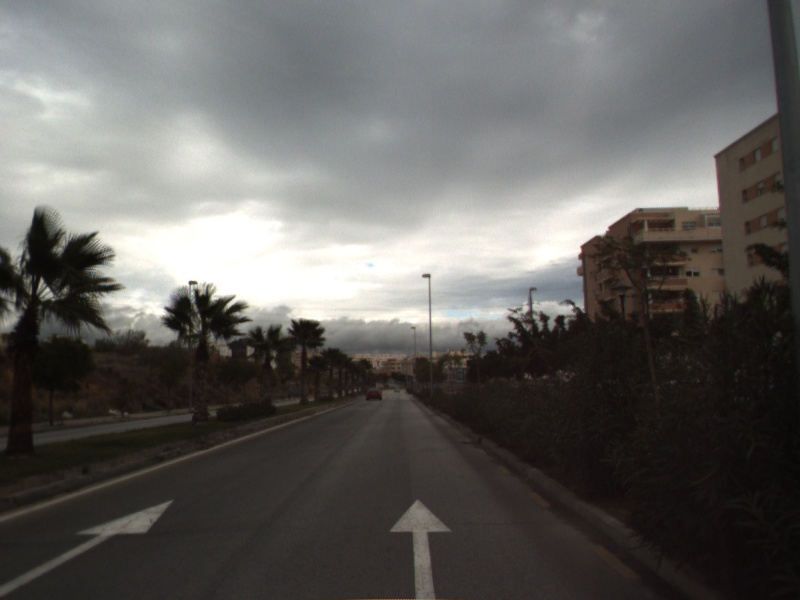STRAIGHT: (1, 498, 176, 598), (387, 496, 455, 600)
